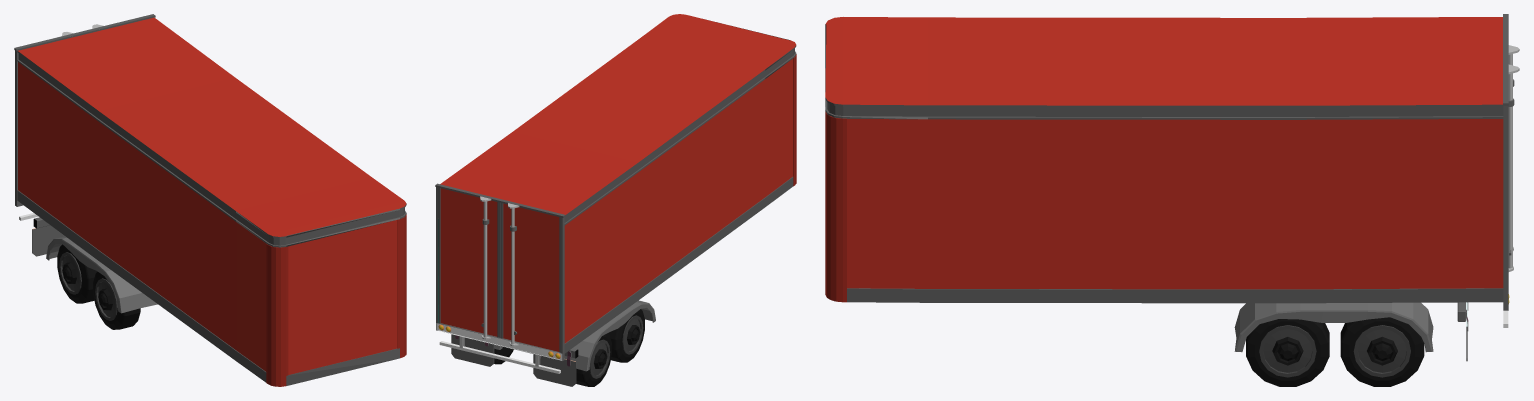
The model's file is Trailer_1_lvl3.fbx.
3 renders of one model, left to right at view 1: azimuth 30°, elevation 25°; view 2: azimuth 150°, elevation 25°; view 3: azimuth 270°, elevation 25°, orthographic. The views are drawn at different scales.
Visible parts, largest first — view 1: Object048, R3_073, R3_079; view 2: Object048, R3_079, R3_073; view 3: Object048, R3_072, R3_078.
Part boxes in pixels (x1,y1,x2,y2): Object048: (14, 14, 406, 386); R3_073: (57, 244, 97, 303); R3_079: (93, 271, 140, 329); Object048: (435, 14, 796, 386); R3_079: (608, 309, 644, 362); R3_073: (576, 333, 611, 386); Object048: (825, 14, 1519, 361); R3_072: (1340, 317, 1424, 386); R3_078: (1246, 319, 1329, 386).
Bounding box in the file's own units: 3071 × 4662 × 10067.
